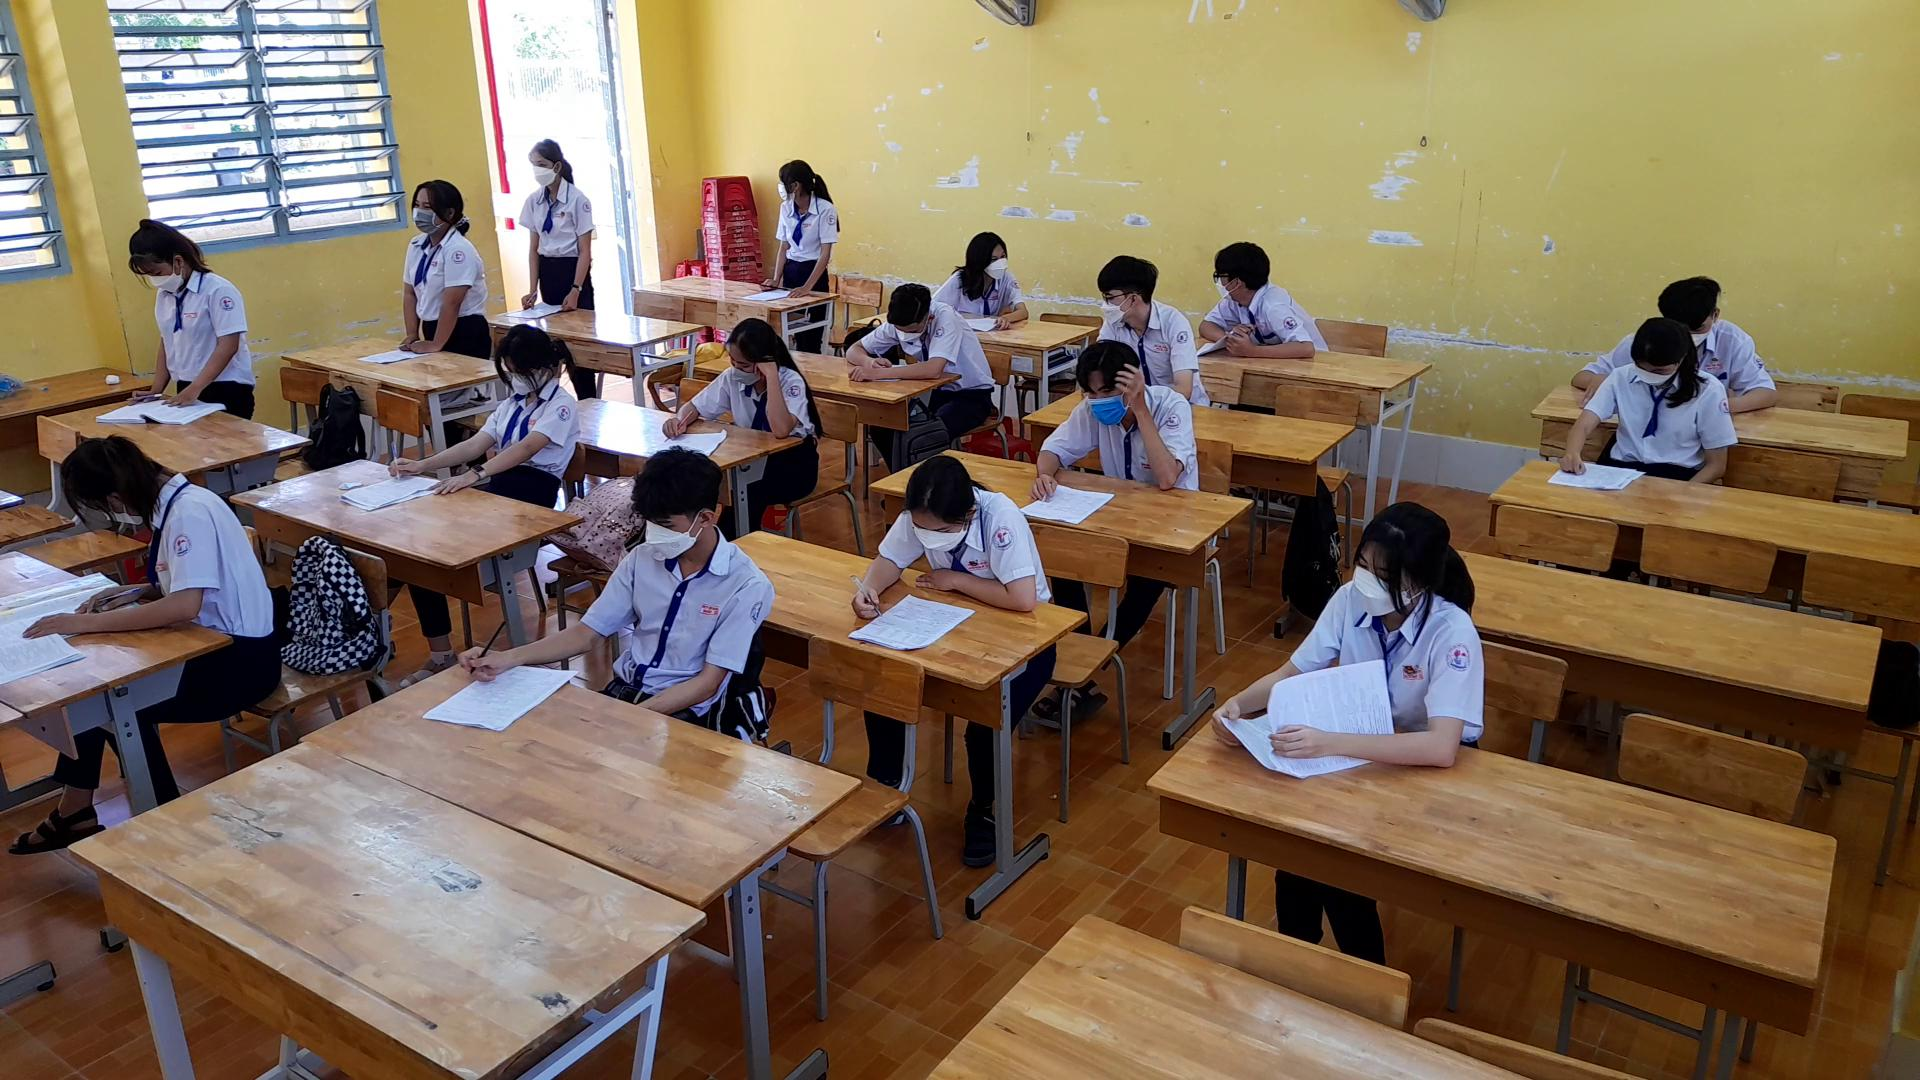Bend Over The Desk: (44, 422, 164, 533)
Hand Under Table: (651, 574, 760, 716), (1683, 375, 1741, 491)
Look Around: (945, 216, 1019, 290), (1091, 252, 1164, 324), (1197, 237, 1271, 310)
Normal: (1207, 483, 1491, 785), (836, 447, 1050, 620), (444, 320, 584, 501), (835, 269, 1001, 393)
Stand Up: (104, 211, 258, 419), (384, 167, 497, 367), (501, 127, 603, 315), (756, 146, 841, 295)
Wave: (1116, 353, 1196, 495), (749, 353, 806, 444)
